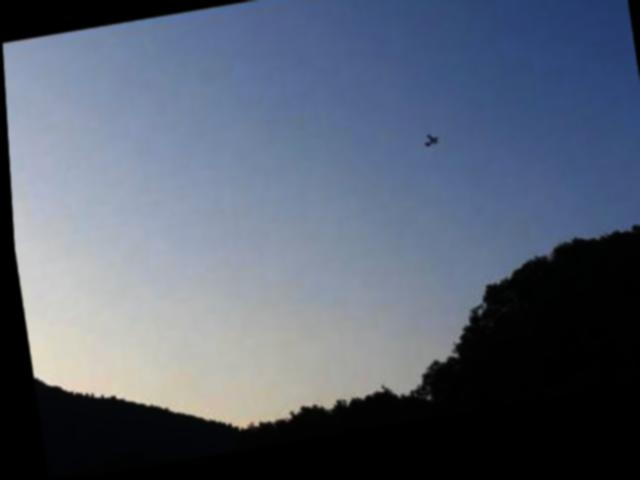uav: (420, 139, 438, 156)
